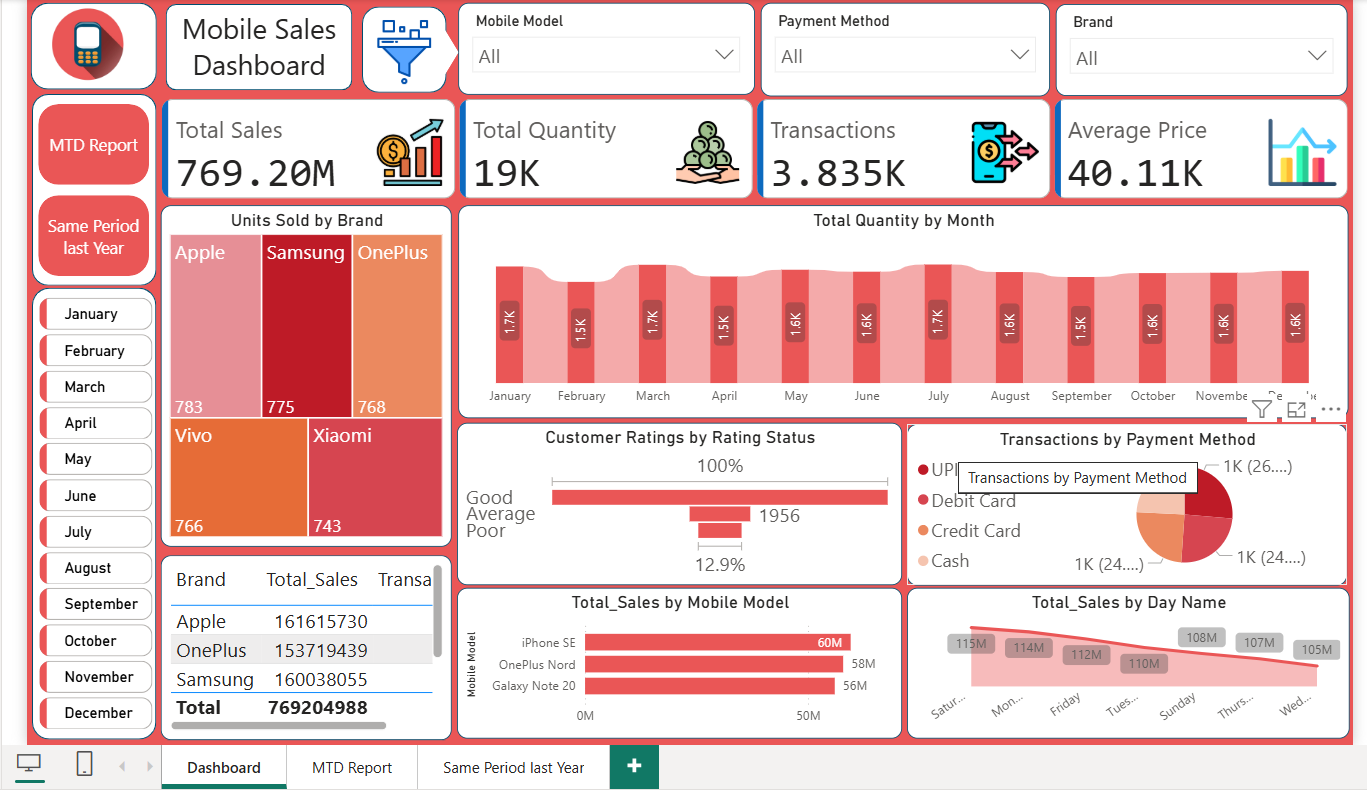

This screenshot's page, from the dashboard's own definition file:
{"tool":"powerbi","page":{"name":"Dashboard","canvas":[1280,720],"ordinal":0},"visuals":[{"type":"shape","box":[4.1,4.1,121.6,83.8],"z":0},{"type":"image","box":[13.8,0,102.5,98.8],"z":1000},{"type":"shape","box":[5.4,91.9,120.3,185.1],"z":2000},{"type":"shape","box":[5.4,278.5,120,436.2],"z":3000},{"type":"cardVisual","fields":{"Data":["Mobile Sales Data.Total_Sales","Mobile Sales Data.Total Quantity","Mobile Sales Data.Transaction","Mobile Sales Data.Average_Price"]},"box":[125,91.7,1155,106.7],"z":4000},{"type":"slicer","fields":{"Values":["Mobile Sales Data.Mobile Model"]},"box":[416.2,3.8,286.2,88.5],"z":5000},{"type":"slicer","fields":{"Values":["Mobile Sales Data.Brand"]},"box":[992.9,4.3,281.4,88.6],"z":6000},{"type":"slicer","fields":{"Values":["Mobile Sales Data.Payment Method"]},"box":[708.5,3.1,279.2,90],"z":7000},{"type":"shape","box":[323.3,7.5,81.7,83.3],"z":8000},{"type":"shape","box":[383.1,23.8,33.1,54.6],"z":9000},{"type":"image","box":[256.7,14.2,215,74.2],"z":10000},{"type":"shape","box":[133.3,5,180,83.3],"z":11000},{"type":"textbox","box":[133.6,5,180,88.6],"z":12000},{"type":"funnel","title":"Customer Ratings by Rating Status","fields":{"Y":["Sum(Mobile Sales Data.Customer Ratings)"],"Category":["Mobile Sales Data.Reting Status"]},"box":[415.6,409.1,429.9,157.1],"z":13000},{"type":"ribbonChart","title":"Total Quantity by Month","fields":{"Category":["Custom_Calender.Date.Variation.Date Hierarchy.Month"],"Y":["Mobile Sales Data.Total_Quantity"]},"box":[415.8,199,859,205.8],"z":14000},{"type":"pieChart","fields":{"Y":["Mobile Sales Data.Transaction"],"Category":["Mobile Sales Data.Payment Method"]},"box":[849.4,410.4,424.7,155.8],"z":15000},{"type":"clusteredBarChart","fields":{"Y":["Mobile Sales Data.Total_Sales"],"Category":["Mobile Sales Data.Mobile Model"]},"box":[415.6,568.8,429.9,145.5],"z":16000},{"type":"areaChart","fields":{"Y":["Mobile Sales Data.Total_Sales"],"Category":["Custom_Calender.Day Name"]},"box":[849.4,568.8,427.3,145.5],"z":17000},{"type":"tableEx","fields":{"Values":["Mobile Sales Data.Brand","Mobile Sales Data.Total_Sales","Mobile Sales Data.Transactions"]},"box":[129.5,536.7,281,178.1],"z":18000},{"type":"advancedSlicerVisual","fields":{"Values":["Custom_Calender.Date.Variation.Date Hierarchy.Month"]},"box":[6.9,283.9,119.4,436.1],"z":19000},{"type":"pageNavigator","box":[10.9,101.3,107.4,167.7],"z":20000},{"type":"treemap","title":"Units Sold by Brand","fields":{"Group":["Mobile Sales Data.Brand"],"Values":["CountNonNull(Mobile Sales Data.Units Sold)"]},"box":[129.1,199.1,281.1,329.4],"z":21000}]}

Visuals, with their boxes on the page's 1280x720 design canvas (x1, y1, x2, y2). These are canvas units, not pixel positions in the 1367x790 screenshot, which may show the page scaled, cropped or inside an application window:
shape: detection(4, 4, 126, 88)
image: detection(14, 0, 116, 99)
shape: detection(5, 92, 126, 277)
shape: detection(5, 278, 125, 715)
cardVisual - Mobile Sales Data.Total_Sales x Mobile Sales Data.Total Quantity: detection(125, 92, 1280, 198)
slicer - Mobile Sales Data.Mobile Model: detection(416, 4, 702, 92)
slicer - Mobile Sales Data.Brand: detection(993, 4, 1274, 93)
slicer - Mobile Sales Data.Payment Method: detection(708, 3, 988, 93)
shape: detection(323, 8, 405, 91)
shape: detection(383, 24, 416, 78)
image: detection(257, 14, 472, 88)
shape: detection(133, 5, 313, 88)
textbox: detection(134, 5, 314, 94)
"Customer Ratings by Rating Status" funnel: detection(416, 409, 846, 566)
"Total Quantity by Month" ribbonChart: detection(416, 199, 1275, 405)
pieChart - Mobile Sales Data.Transaction x Mobile Sales Data.Payment Method: detection(849, 410, 1274, 566)
clusteredBarChart - Mobile Sales Data.Total_Sales x Mobile Sales Data.Mobile Model: detection(416, 569, 846, 714)
areaChart - Mobile Sales Data.Total_Sales x Custom_Calender.Day Name: detection(849, 569, 1277, 714)
tableEx - Mobile Sales Data.Brand x Mobile Sales Data.Total_Sales: detection(130, 537, 410, 715)
advancedSlicerVisual - Custom_Calender.Date.Variation.Date Hierarchy.Month: detection(7, 284, 126, 720)
pageNavigator: detection(11, 101, 118, 269)
"Units Sold by Brand" treemap: detection(129, 199, 410, 528)
